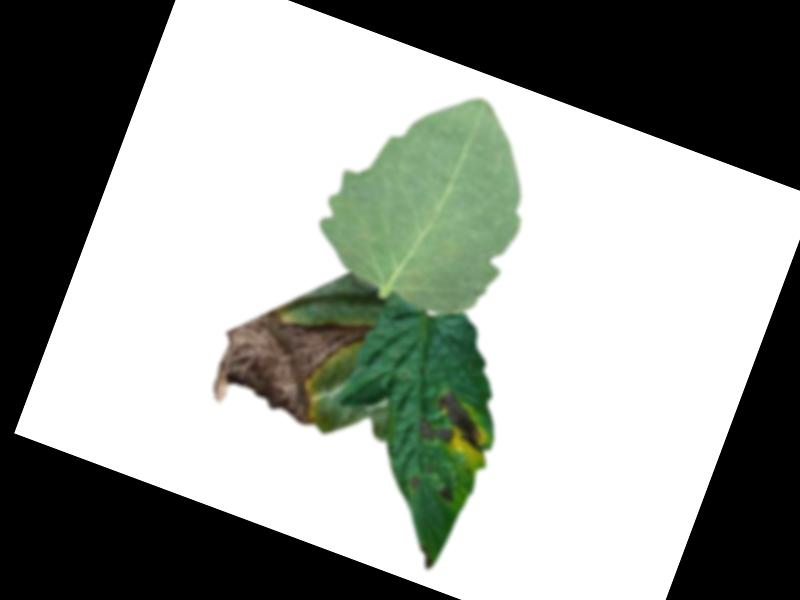Early_blight: (202, 276, 376, 445), (415, 384, 501, 462), (412, 542, 439, 571), (438, 482, 459, 503), (406, 470, 423, 490)
healthy: (301, 60, 558, 333)
